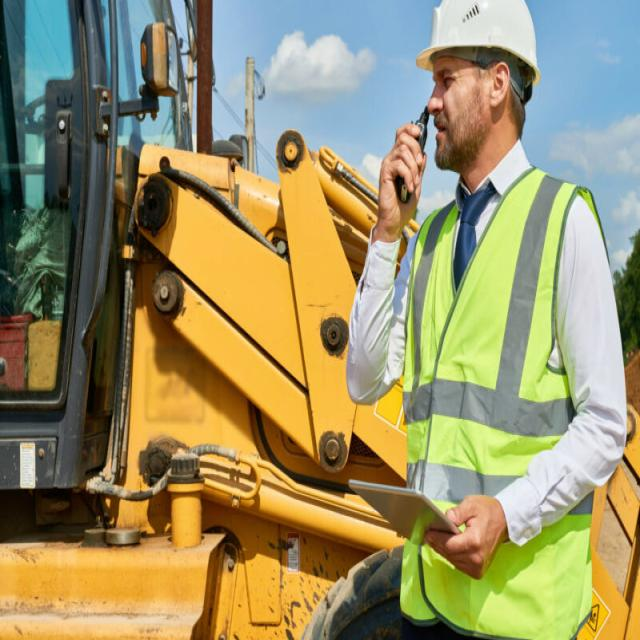helmet: (415, 0, 541, 86)
vest: (398, 173, 604, 640)
